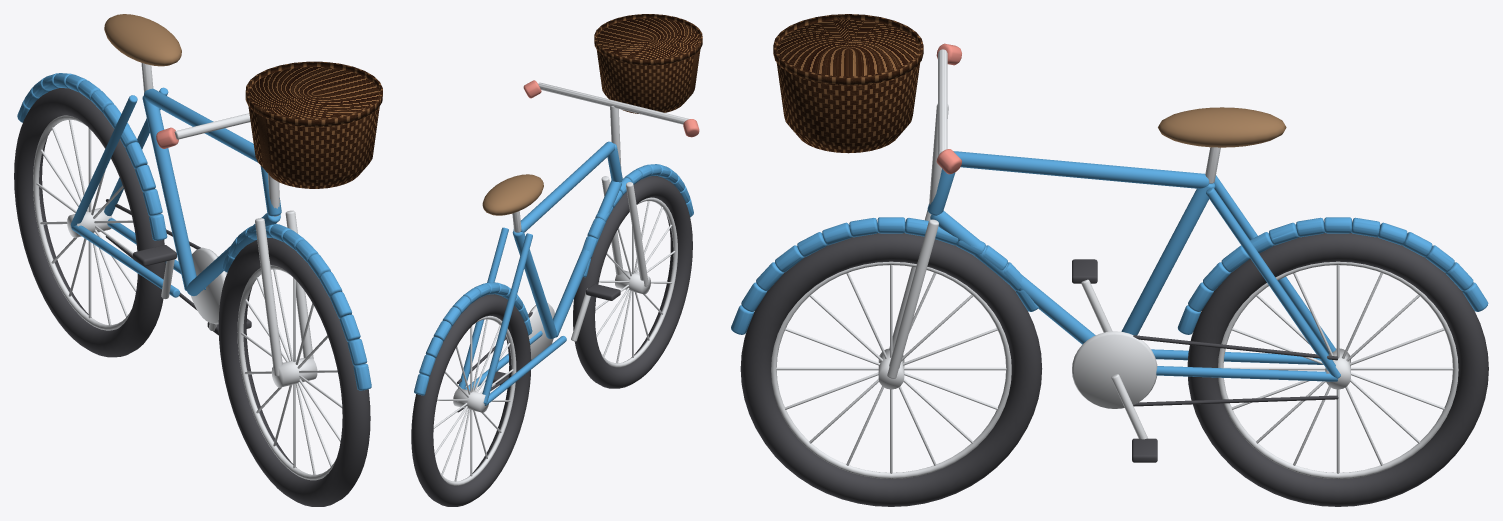
File: bike_blue.glb
3 renders of one model, left to right at view 1: azimuth 30°, elevation 25°; view 2: azimuth 150°, elevation 25°; view 3: azimuth 270°, elevation 25°, orthographic. The views are drawn at different scales.
Visible parts, largest first — view 1: bike_blue; view 2: bike_blue; view 3: bike_blue.
Boxes of the visible parts, x1,y1,x2,y2 form: bike_blue: [14, 14, 382, 506]; bike_blue: [411, 14, 702, 506]; bike_blue: [731, 14, 1488, 506].
Size of the model in its own units: 0.6495 by 1.18 by 1.76.
Materials: 6 (1 with a texture image).
